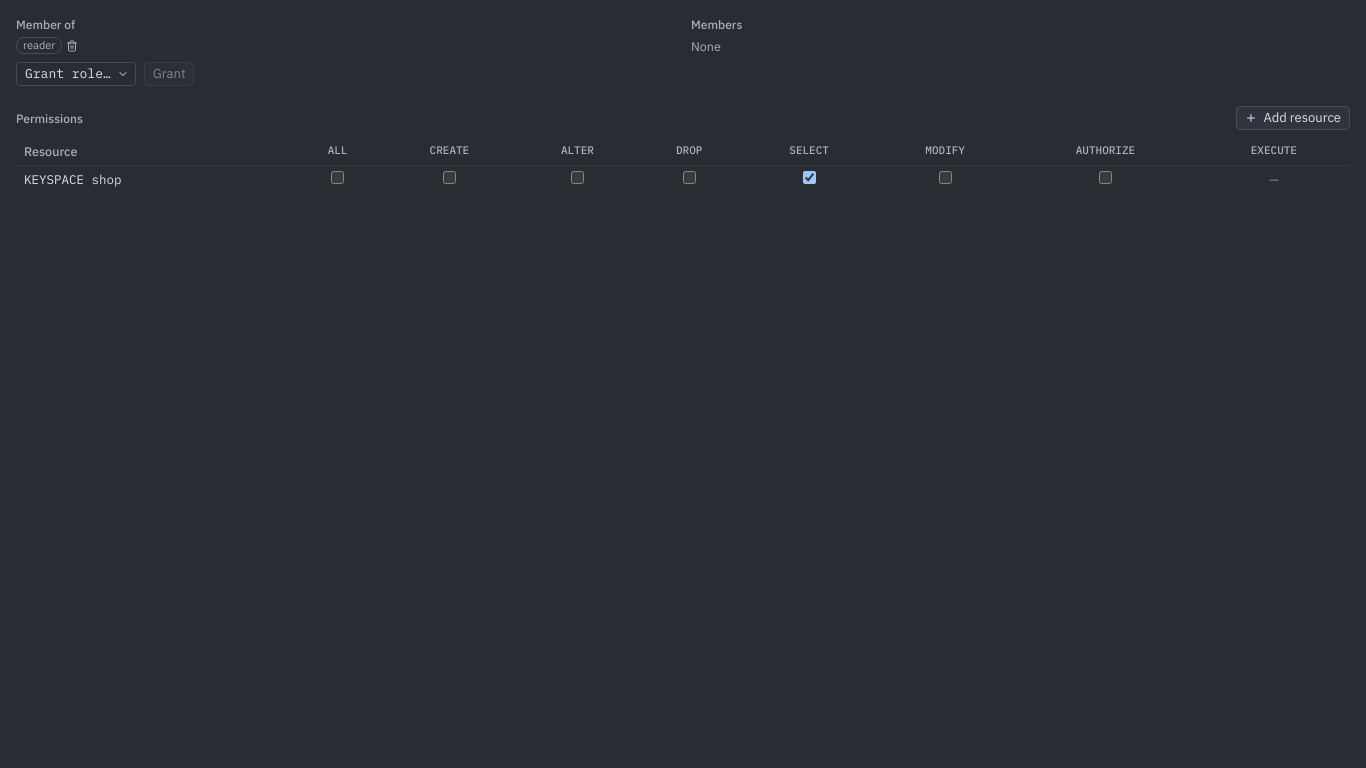
Test: RoleDetail › queues a GRANT from the matrix and reviews it
Expected: the checkbox named "SELECT on KEYSPACE shop" is checked, [803, 170, 816, 184]
Click the checkbox named "MODIFY on KEYSPACE shop". click: {"x": 945, "y": 177}
box: [939, 170, 952, 184]
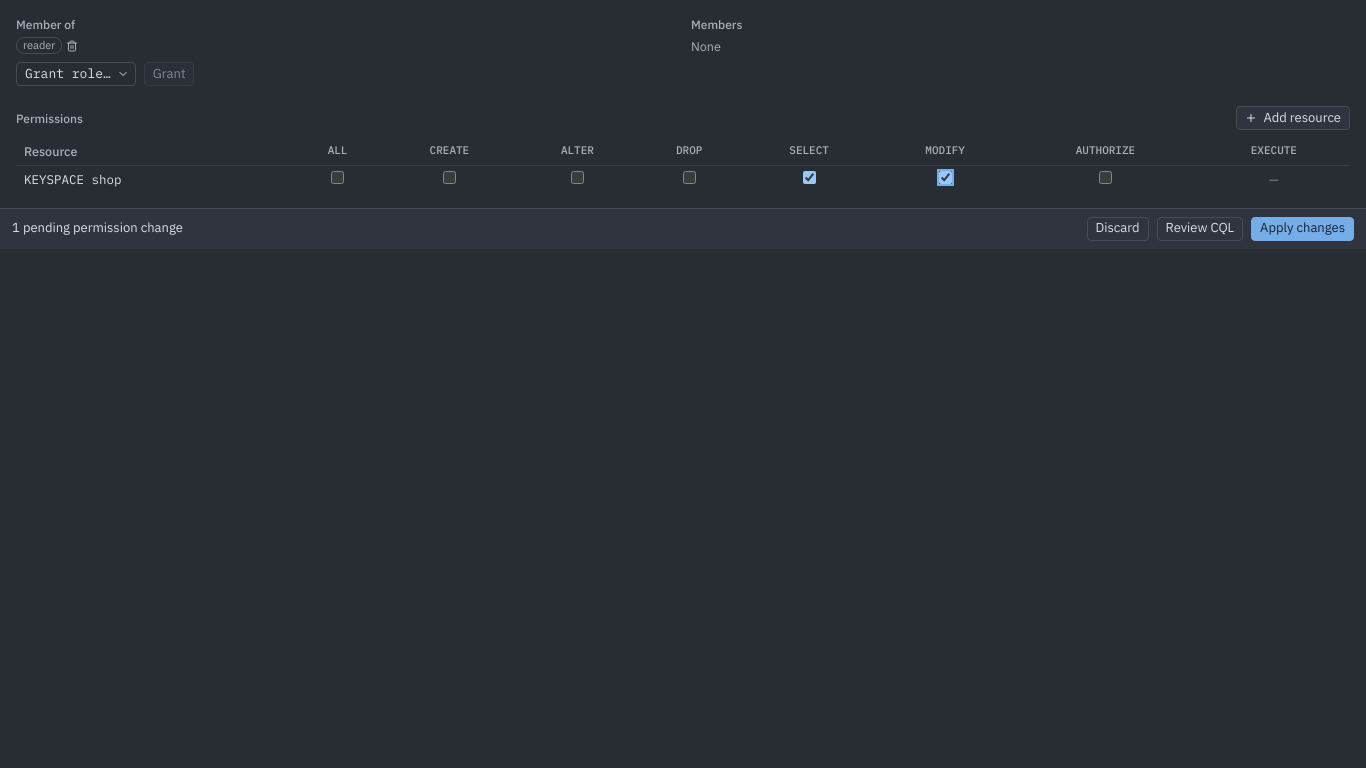
Now the text "1 pending permission change" is shown, box [12, 219, 183, 238]
Click the button "Review CQL". click: {"x": 1200, "y": 229}
box: [1156, 217, 1243, 241]
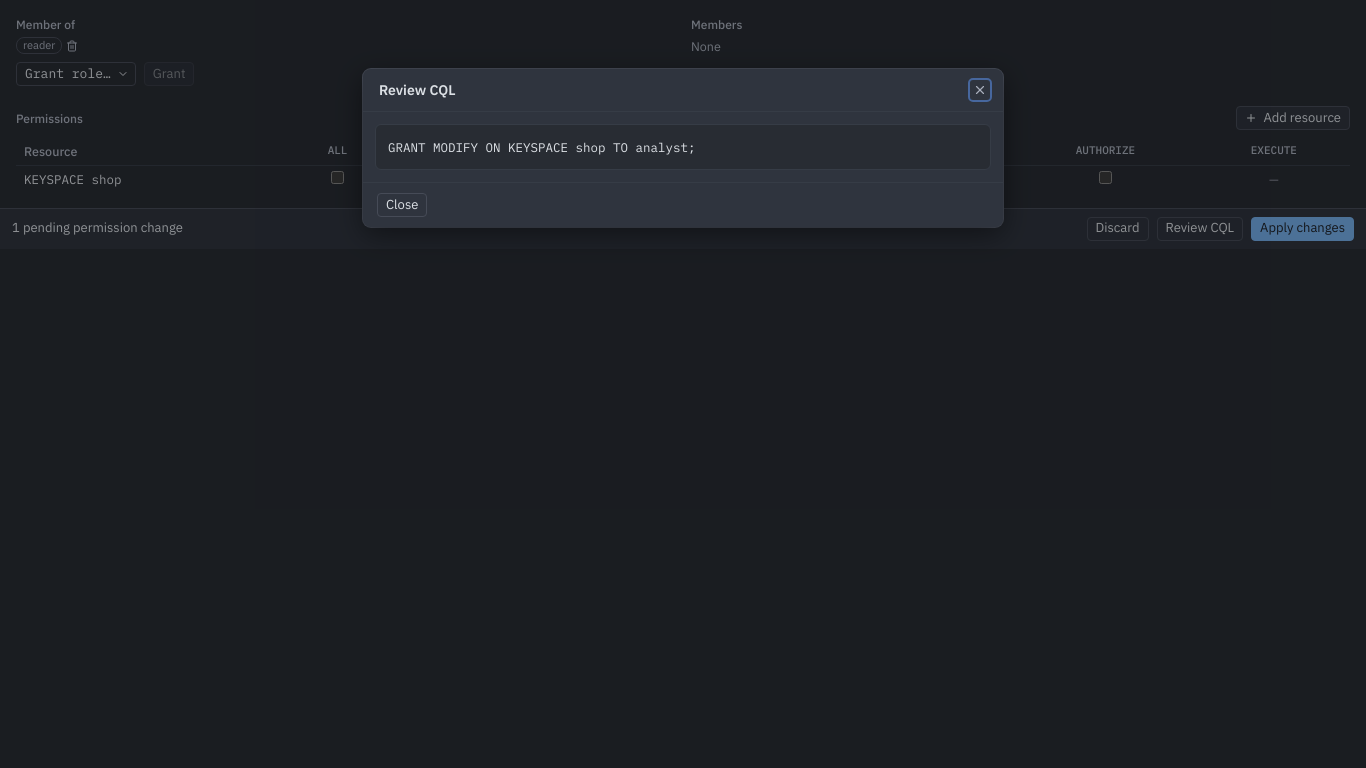
Now the text named "Statements" reads "GRANT MODIFY ON KEYSPACE shop TO analyst;", box [388, 139, 696, 155]
